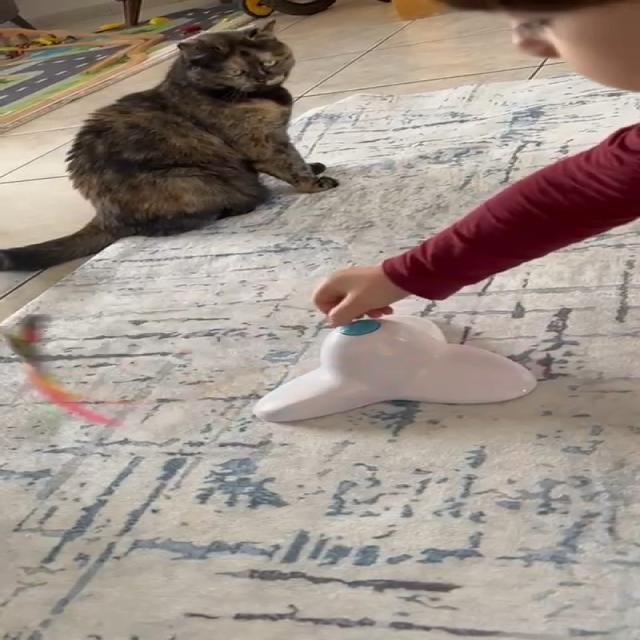authorized: (0, 18, 339, 272)
